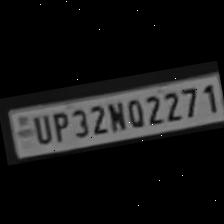1: (196, 81, 218, 114)
2: (157, 86, 182, 122), (84, 100, 107, 134), (140, 90, 162, 124)
3: (66, 102, 90, 138)
7: (176, 82, 200, 117)
N: (103, 96, 127, 131)
P: (46, 106, 71, 141)
Q: (122, 94, 144, 128)
U: (27, 110, 52, 144)
